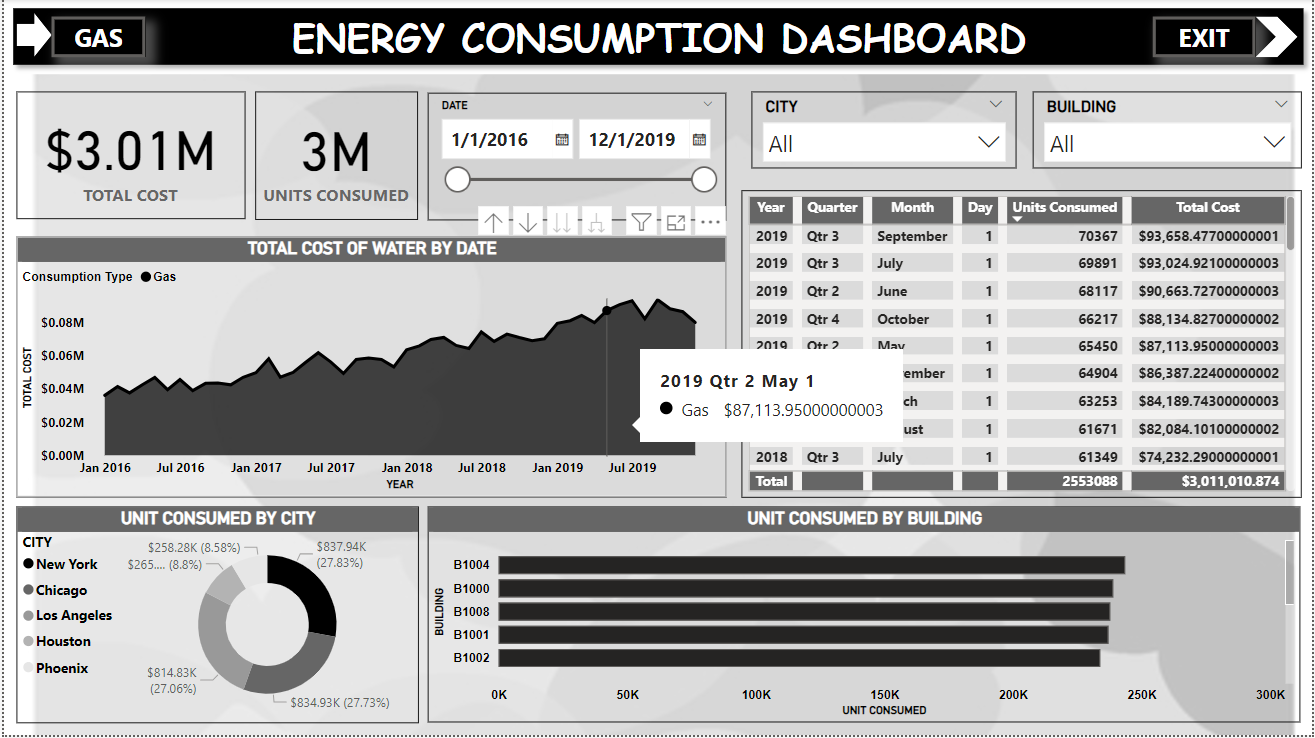

The page's visual inventory and layout, read from the dashboard file:
{"tool":"powerbi","page":{"name":"GAS","canvas":[1280,720],"ordinal":3},"visuals":[{"type":"shape","box":[0,0,1280.3,73.4],"z":0},{"type":"textbox","box":[270.2,6.1,741,67.3],"z":1000},{"type":"card","fields":{"Values":["Energy Consumptions.Total Cost"]},"box":[12.2,90.5,223.8,124.7],"z":2000},{"type":"card","fields":{"Values":["Energy Consumptions.Units Consumed"]},"box":[245.8,90.5,159,126],"z":3000},{"type":"slicer","fields":{"Values":["Building Master.Building"]},"box":[1005.8,90.6,263.5,75.5],"z":4000},{"type":"slicer","fields":{"Values":["Building Master.City"]},"box":[731.4,90.6,259.3,75.5],"z":5000},{"type":"slicer","fields":{"Values":["Energy Consumptions.Date"]},"box":[414.4,91.9,292.3,124.9],"z":6000},{"type":"areaChart","title":"TOTAL COST OF WATER BY DATE","fields":{"Category":["Energy Consumptions.Date.Variation.Date Hierarchy.Year","Energy Consumptions.Date.Variation.Date Hierarchy.Quarter","Energy Consumptions.Date.Variation.Date Hierarchy.Month","Energy Consumptions.Date.Variation.Date Hierarchy.Day"],"Series":["Energy Consumptions.Consumption Type"],"Y":["Energy Consumptions.Total Cost"]},"box":[12.3,231.9,694.3,255.2],"z":7000},{"type":"tableEx","fields":{"Values":["Energy Consumptions.Date.Variation.Date Hierarchy.Year","Energy Consumptions.Date.Variation.Date Hierarchy.Quarter","Energy Consumptions.Date.Variation.Date Hierarchy.Month","Energy Consumptions.Date.Variation.Date Hierarchy.Day","Energy Consumptions.Units Consumed","Energy Consumptions.Total Cost"]},"box":[721.5,187,547.7,300.4],"z":8000},{"type":"donutChart","title":"UNIT CONSUMED BY CITY","fields":{"Y":["Energy Consumptions.Total Cost"],"Category":["Building Master.City"]},"box":[12.1,497.1,393.3,212.3],"z":9000},{"type":"clusteredBarChart","title":"UNIT CONSUMED BY BUILDING","fields":{"Category":["Energy Consumptions.Building"],"Y":["Energy Consumptions.Units Consumed"]},"box":[414.5,496.5,853.5,211.6],"z":10000},{"type":"actionButton","box":[1123.8,17.3,100.4,39.8],"z":12000},{"type":"shape","box":[1224.3,17.3,41.6,39.8],"z":13000},{"type":"shape","box":[12.1,13.9,34.6,43.3],"z":14000},{"type":"actionButton","box":[46.8,17.3,91.8,39.8],"z":15000}]}

Visuals, with their boxes in screenshot pixels (x1, y1, x2, y2), scaled from the page's 1280x720 canvas onto the 1315x738 screenshot:
shape: box(0, 0, 1314, 75)
textbox: box(278, 6, 1039, 75)
card - Energy Consumptions.Total Cost: box(13, 93, 242, 221)
card - Energy Consumptions.Units Consumed: box(253, 93, 416, 222)
slicer - Building Master.Building: box(1033, 93, 1304, 170)
slicer - Building Master.City: box(751, 93, 1018, 170)
slicer - Energy Consumptions.Date: box(426, 94, 726, 222)
"TOTAL COST OF WATER BY DATE" areaChart: box(13, 238, 726, 499)
tableEx - Energy Consumptions.Date.Variation.Date Hierarchy.Year x Energy Consumptions.Date.Variation.Date Hierarchy.Quarter: box(741, 192, 1304, 500)
"UNIT CONSUMED BY CITY" donutChart: box(12, 510, 416, 727)
"UNIT CONSUMED BY BUILDING" clusteredBarChart: box(426, 509, 1303, 726)
actionButton: box(1155, 18, 1258, 59)
shape: box(1258, 18, 1301, 59)
shape: box(12, 14, 48, 59)
actionButton: box(48, 18, 142, 59)
